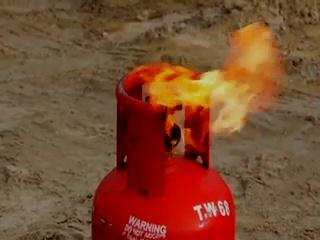Fire: (140, 22, 316, 157)
